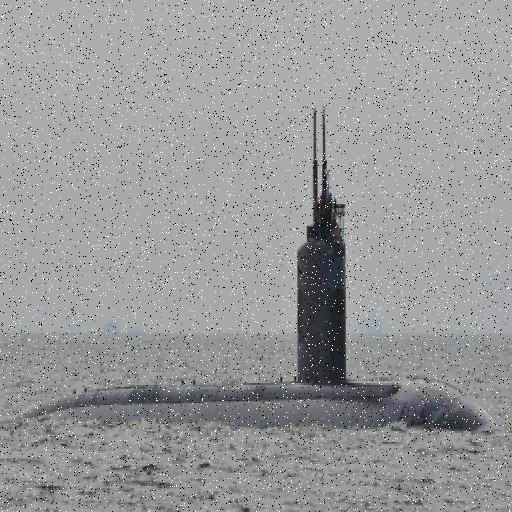submarine: (1, 231, 498, 423)
